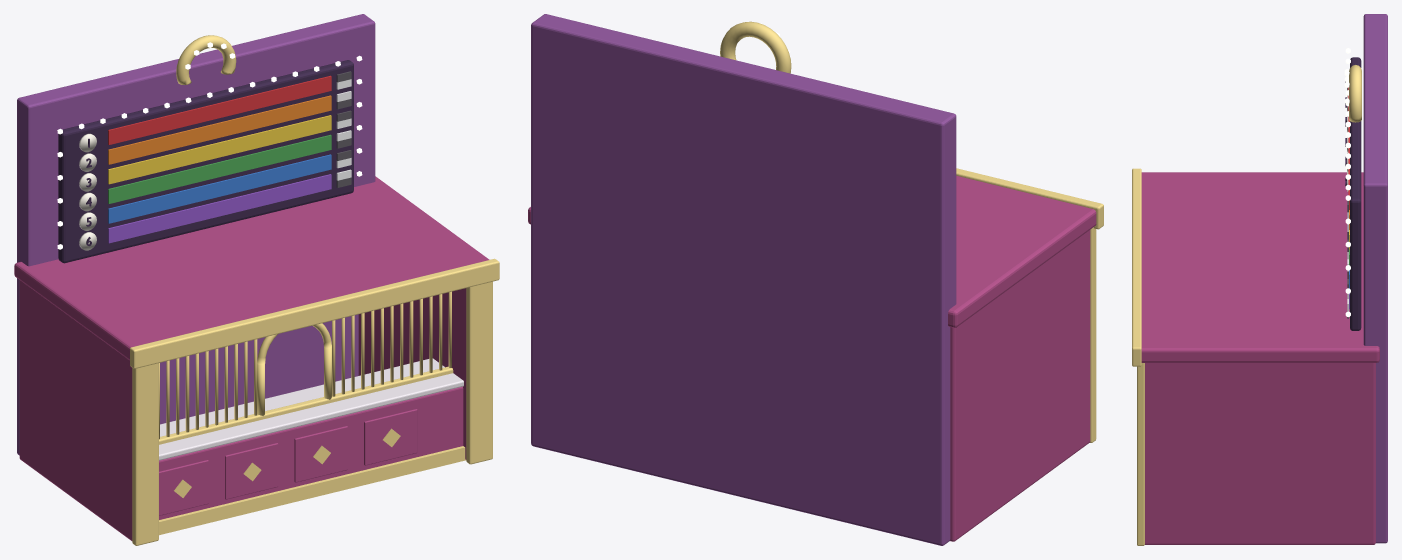
The model's file is pc_race_booth.glb.
The picture shows the model from 3 angles, left to right: view 1: azimuth 30°, elevation 25°; view 2: azimuth 150°, elevation 25°; view 3: azimuth 270°, elevation 25°; orthographic projection. The views are drawn at different scales.
Visible parts, largest first — view 1: pc_race_booth; view 2: pc_race_booth; view 3: pc_race_booth.
Boxes of the visible parts, x1,y1,x2,y2 form: pc_race_booth: (14, 14, 499, 545); pc_race_booth: (528, 14, 1103, 545); pc_race_booth: (1132, 14, 1387, 545).
Size of the model in its own units: 5.26 by 5.32 by 3.16.
